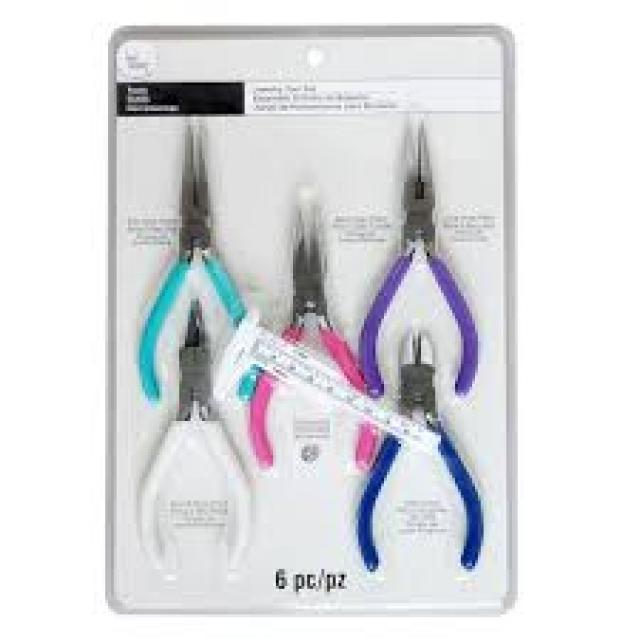pliers: (352, 116, 488, 397), (128, 120, 255, 408), (245, 206, 378, 472), (136, 298, 256, 574), (358, 332, 490, 564)
